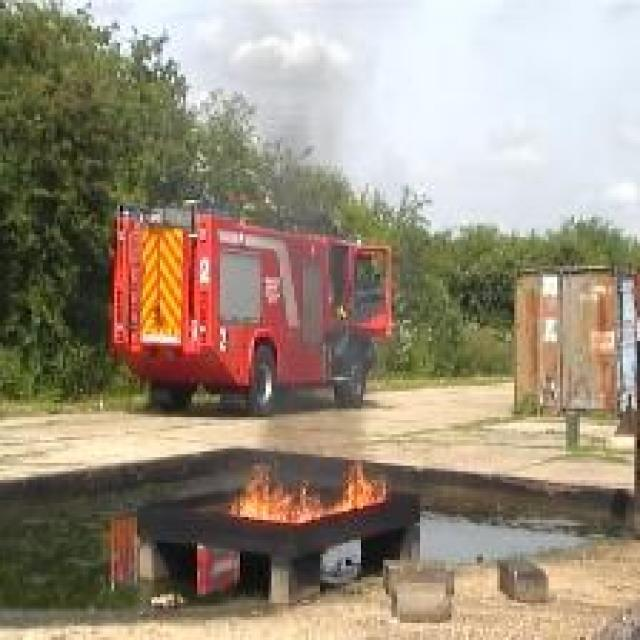Fire: (230, 460, 387, 526)
